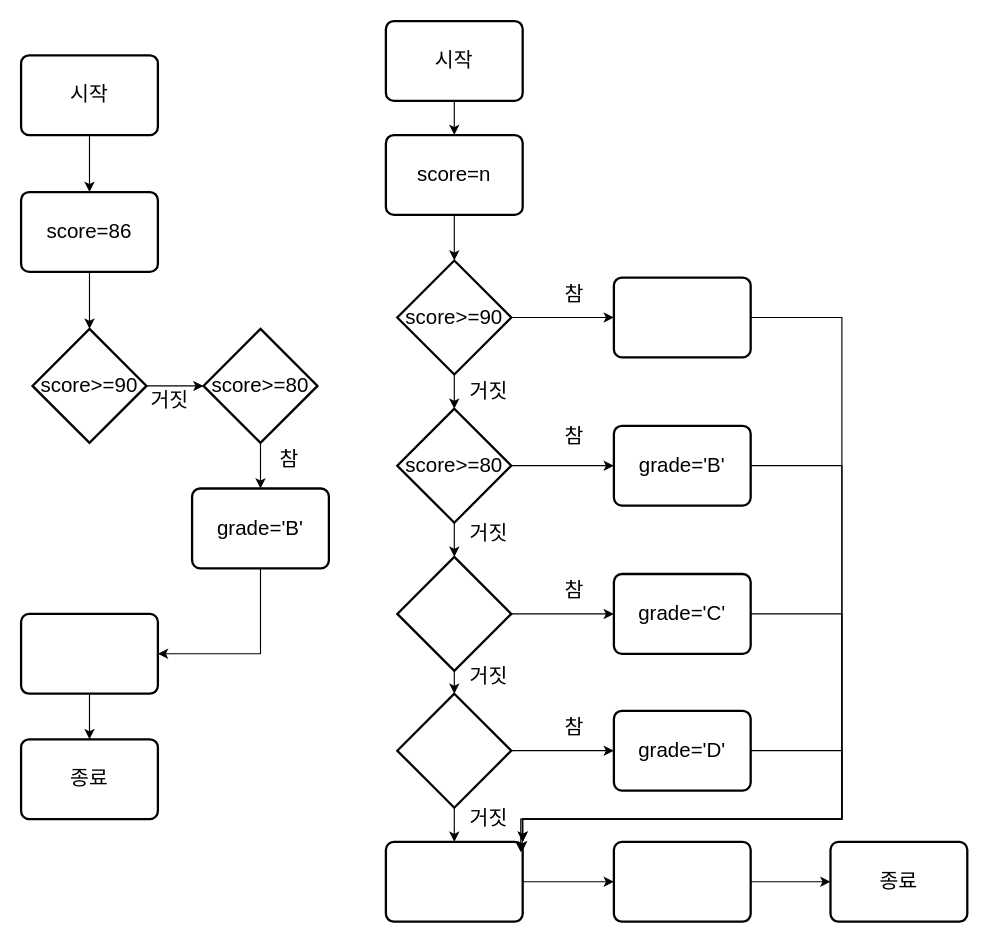
This 987x942 diagram has some shape labels left out. The centre of each missing label's shape, as x and y in pixels:
"grade='A'" belongs at (681,317).
"grade='F'" belongs at (453,881).
"score>=60" belongs at (454,750).
"score>=70" belongs at (454,613).
"결과 출력" belongs at (681,881).
"점수 : 86, 등급 : B" belongs at (88,653).
